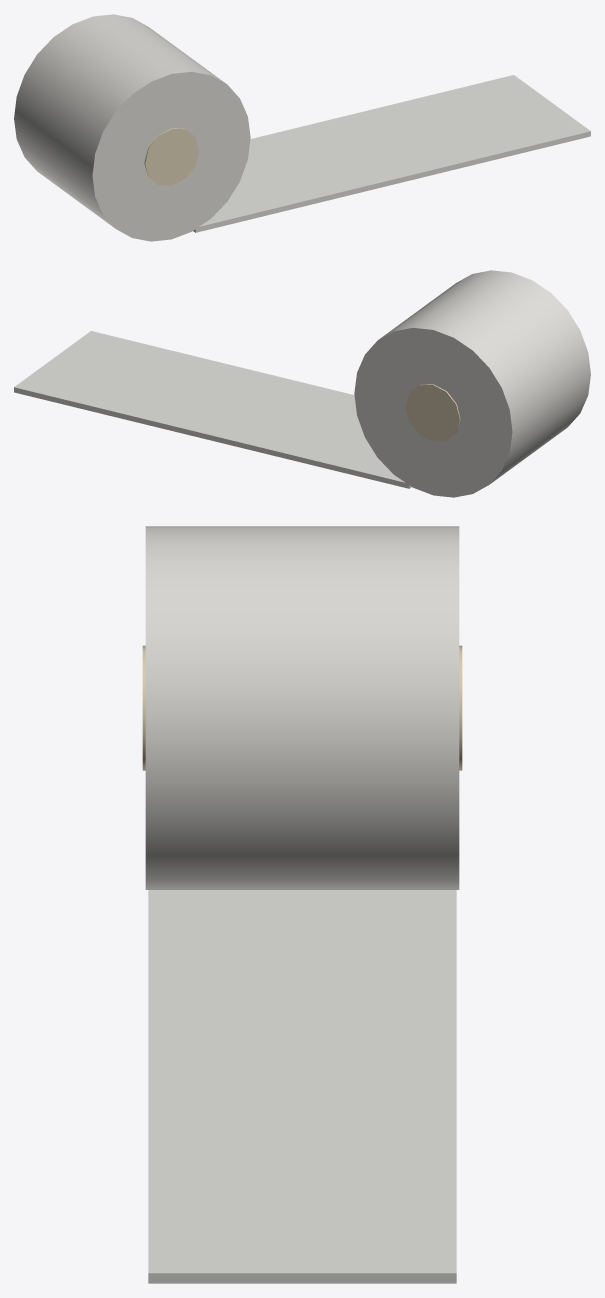
File: SM_Bandage.fbx
3 renders of one model, top to bottom at view 1: azimuth 30°, elevation 25°; view 2: azimuth 150°, elevation 25°; view 3: azimuth 270°, elevation 25°, orthographic. The views are drawn at different scales.
Visible parts, largest first — view 1: SM_Bandage; view 2: SM_Bandage; view 3: SM_Bandage.
Part boxes in pixels (x1=…): SM_Bandage: x1=14, y1=14, x2=590, y2=241; SM_Bandage: x1=14, y1=270, x2=590, y2=497; SM_Bandage: x1=142, y1=526, x2=462, y2=1283.
Size of the model in its own units: 20.2 by 6.4 by 5.6.
